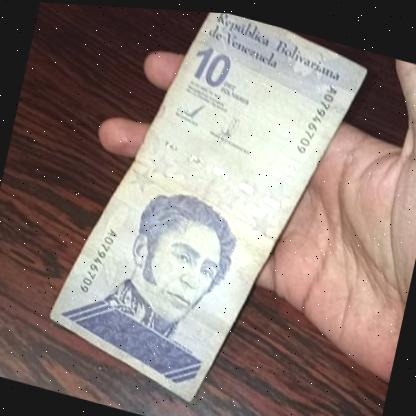ten-front-vef: (35, 2, 369, 416)
